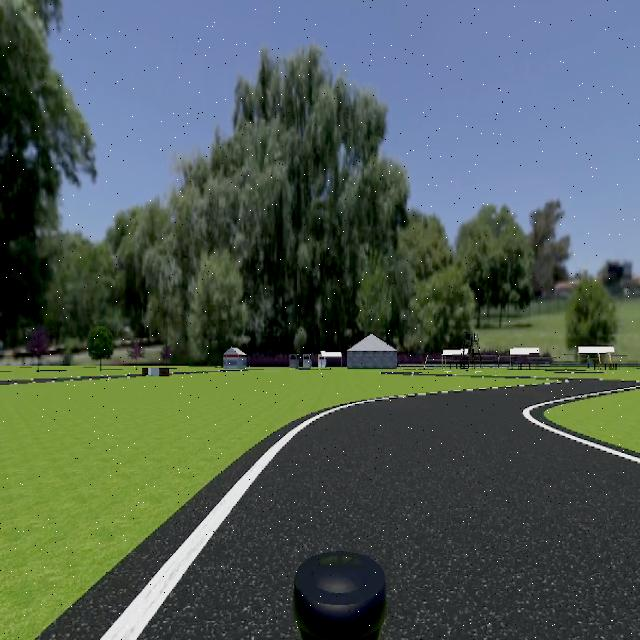road: (137, 381, 640, 640)
solid_line: (99, 401, 366, 640), (523, 397, 640, 466)
